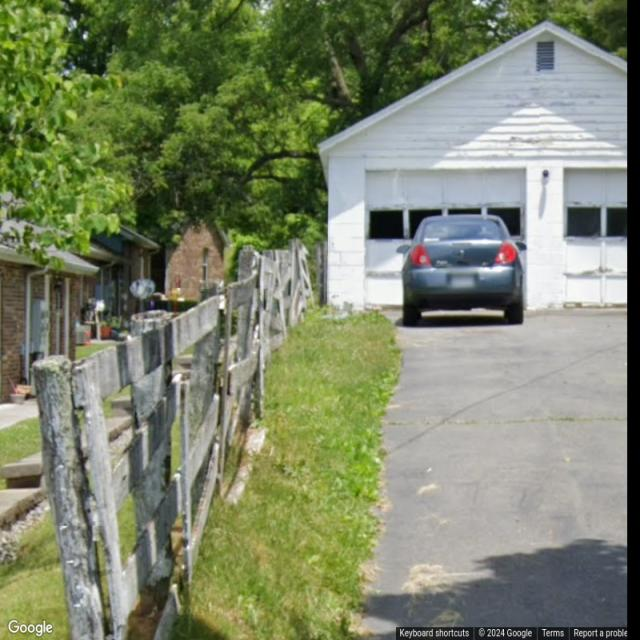House: (317, 24, 629, 312), (0, 183, 229, 405)
